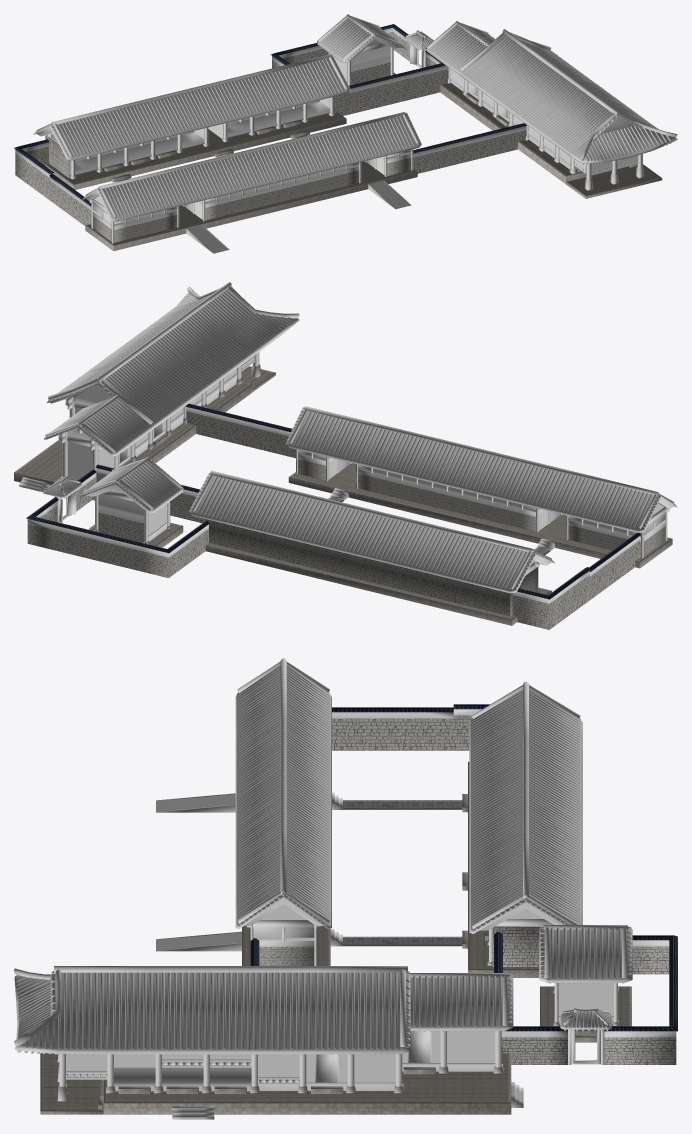
The model's file is Jongmyo_03.fbx.
3 renders of one model, top to bottom at view 1: azimuth 30°, elevation 25°; view 2: azimuth 150°, elevation 25°; view 3: azimuth 270°, elevation 25°, orthographic. The views are drawn at different scales.
Visible parts, largest first — view 1: Hyangdaecheong; view 2: Hyangdaecheong; view 3: Hyangdaecheong.
Part boxes in pixels (x1,y1,x2,y2): Hyangdaecheong: (14,14,677,253); Hyangdaecheong: (14,282,677,629); Hyangdaecheong: (14,658,677,1119).
Bounding box in the file's own units: 5286 × 765 × 3923.
